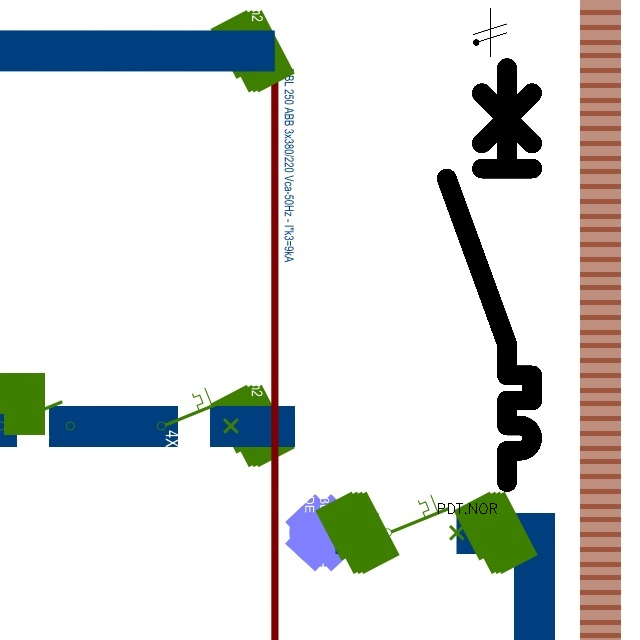interruptor_termomagnetico: (436, 57, 543, 493)
